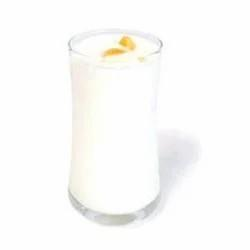Lassi: (69, 33, 162, 214)
